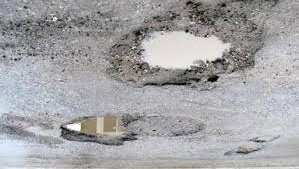pothole: (109, 15, 263, 83), (59, 112, 138, 144), (142, 113, 209, 138), (229, 143, 265, 158), (251, 135, 285, 142)
